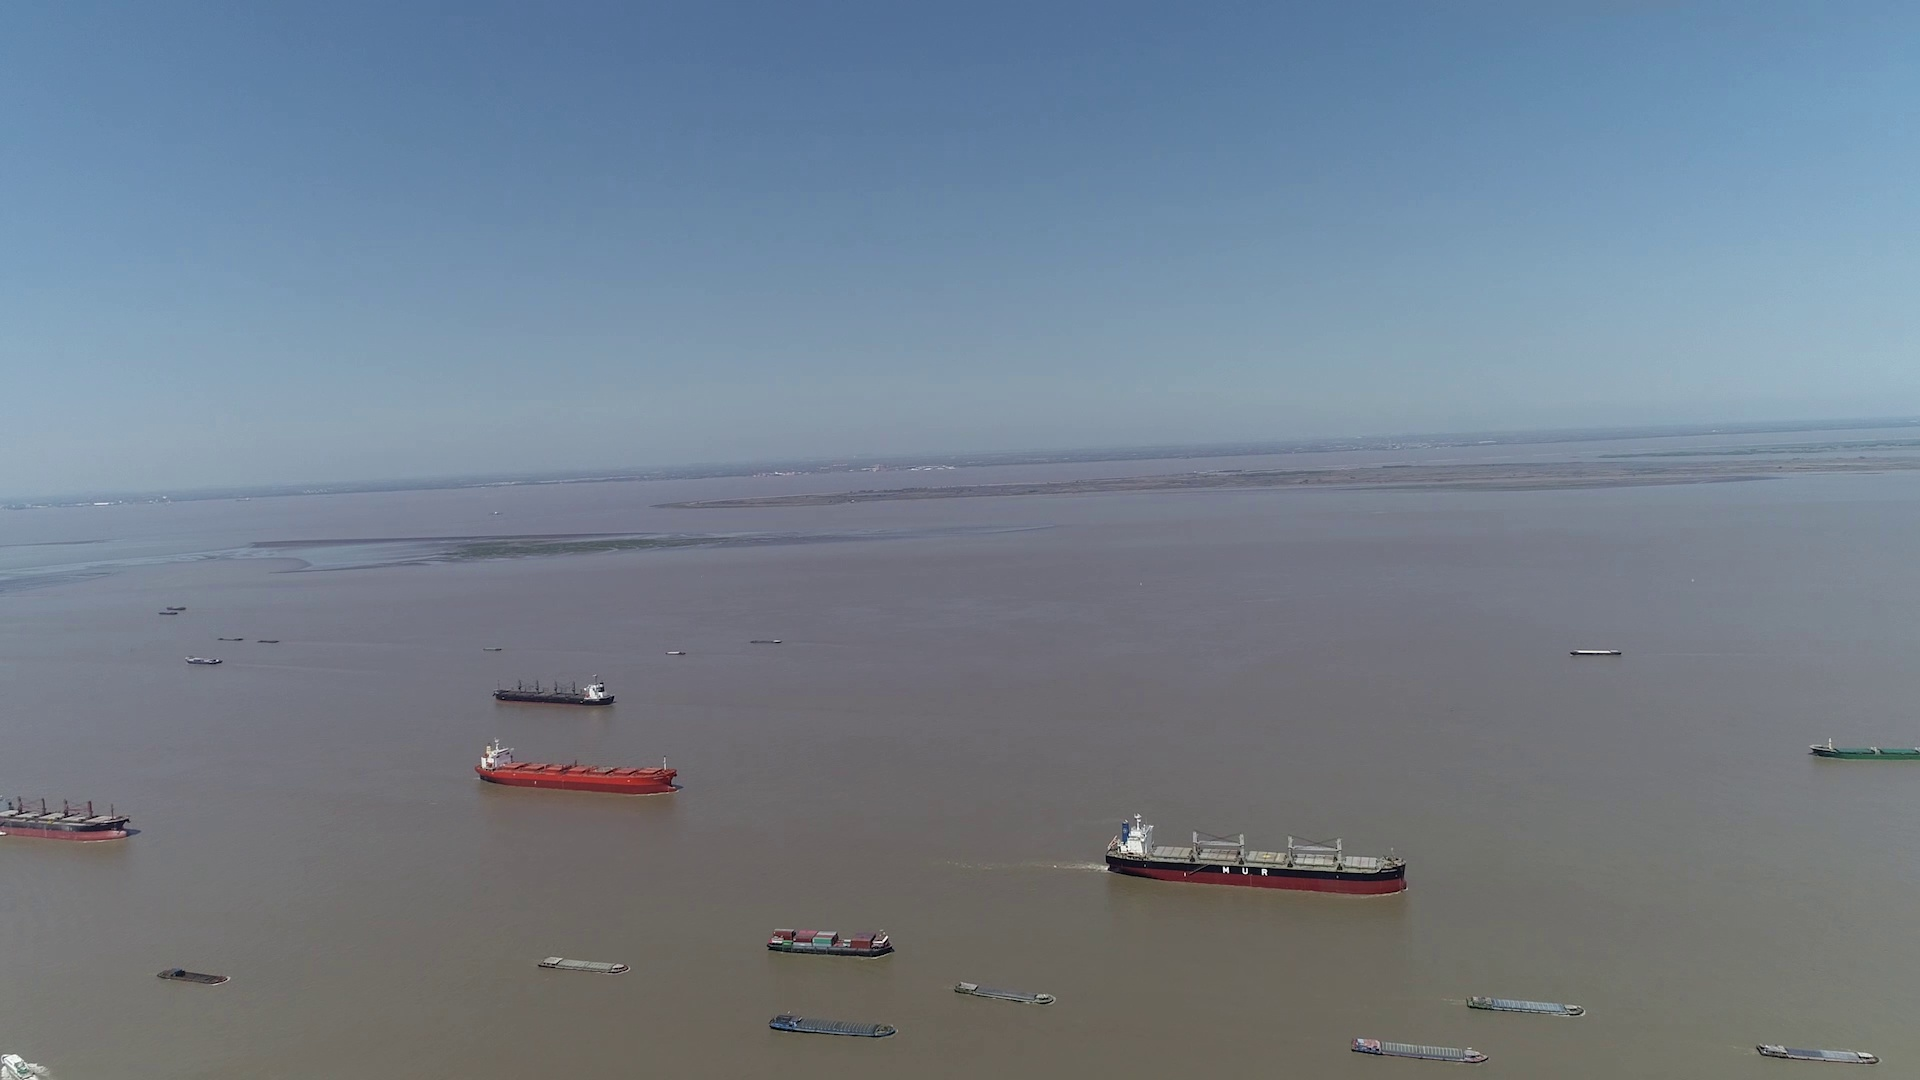ship: (1106, 814, 1411, 897), (471, 735, 680, 793), (1, 779, 131, 843), (483, 694, 645, 738), (767, 926, 895, 957), (1350, 1035, 1487, 1064), (491, 676, 617, 707), (771, 1013, 897, 1040), (1755, 1042, 1876, 1065), (1468, 993, 1586, 1017), (953, 978, 1058, 1005), (1809, 738, 1920, 761), (535, 955, 629, 975), (156, 968, 229, 985), (0, 1048, 40, 1079), (1568, 649, 1618, 657), (185, 655, 222, 665)
